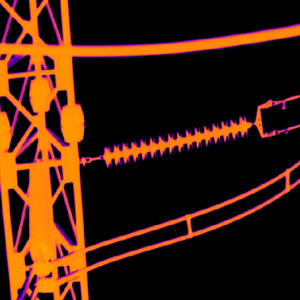insulator: (103, 116, 251, 166)
